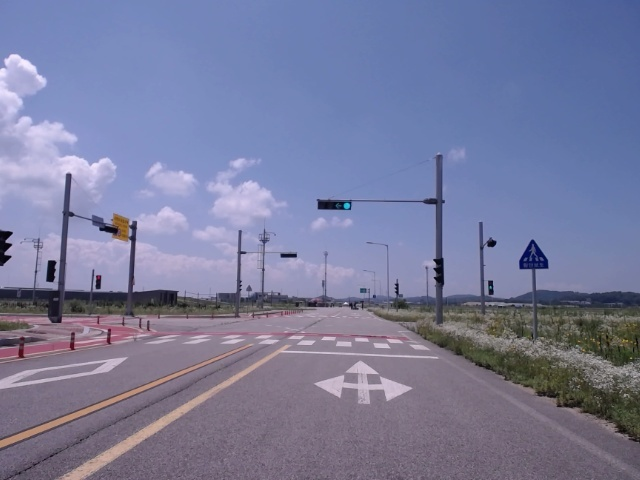all_green_4: (316, 200, 352, 210)
